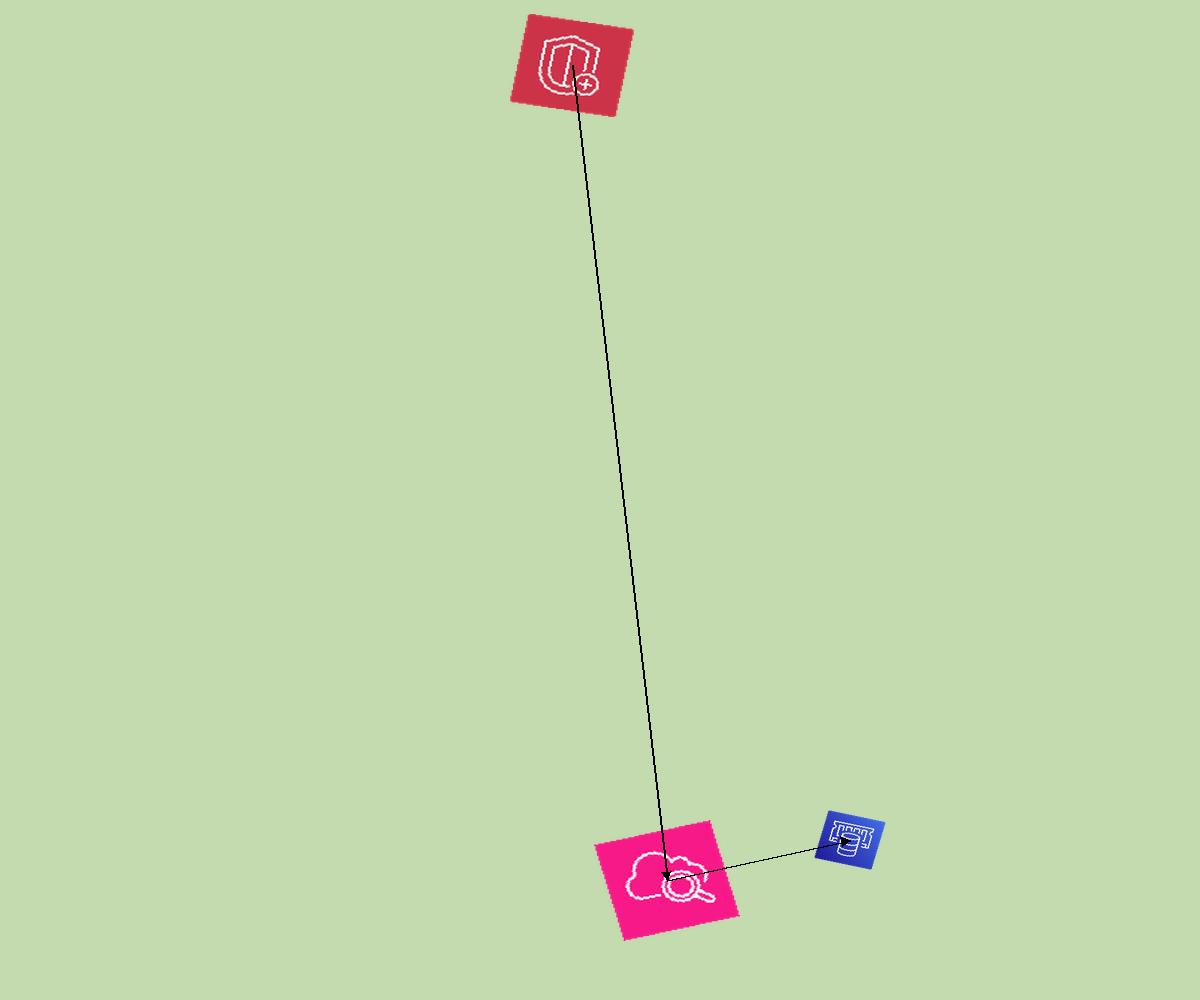AWS-CloudWatch: (594, 820, 740, 941)
AWS-ElastiCache: (814, 810, 886, 870)
AWS-Shield: (509, 13, 635, 118)
